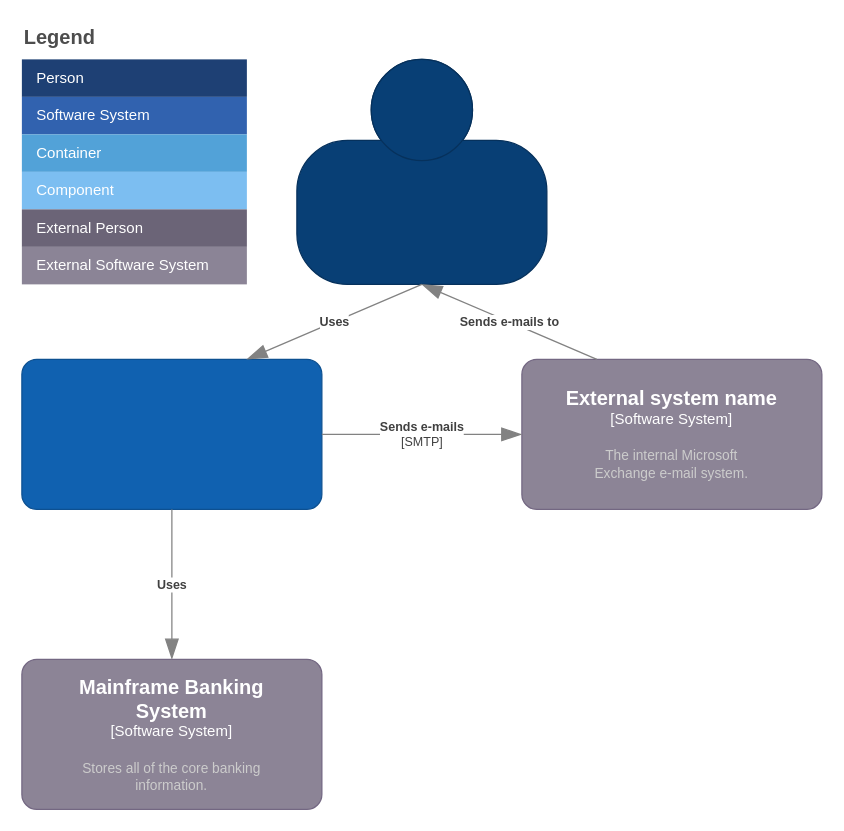
Image size: 844x831. Some labels were removed from this diagram. Each missing label, with the centre of its shape:
"Banking Customer [Person] A customer of the bank, with personal bank accounts." belongs at point (421, 171).
"System name [Software System] Description of software system." belongs at point (171, 433).
